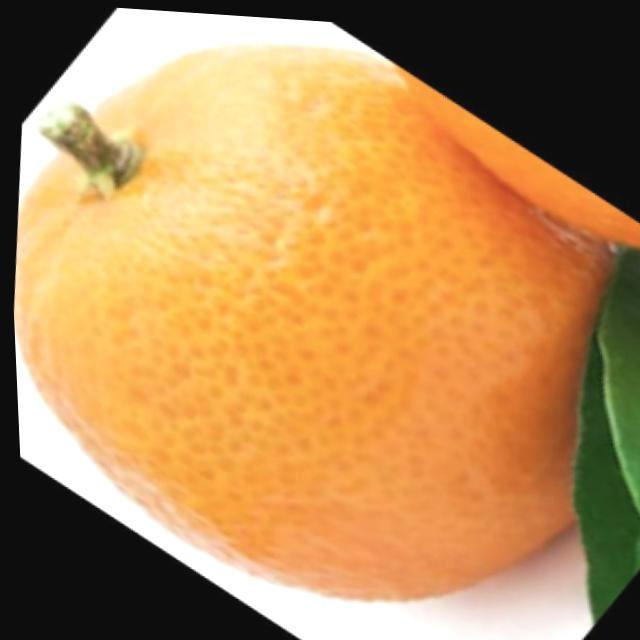Orange: (0, 0, 640, 638)
